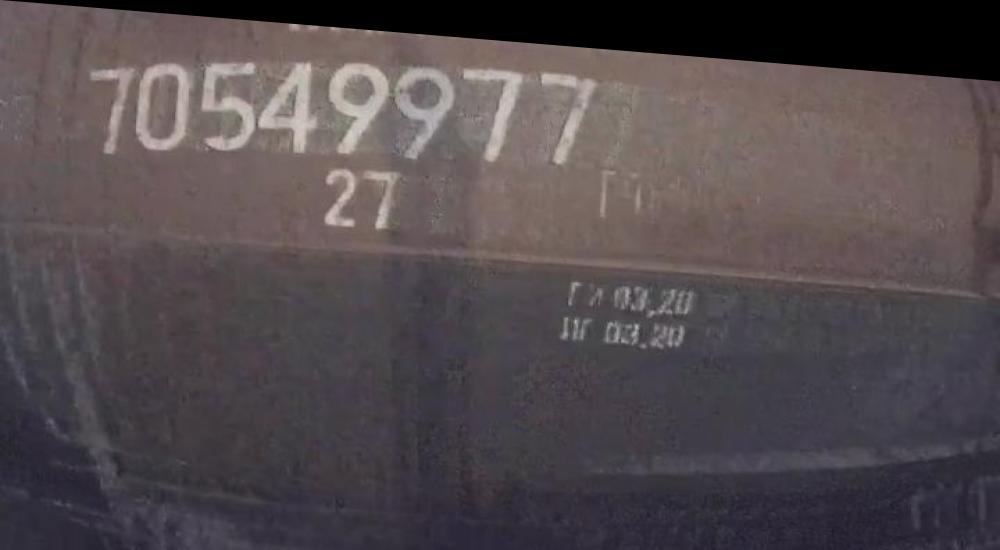Wagon-number: (86, 25, 604, 190)
